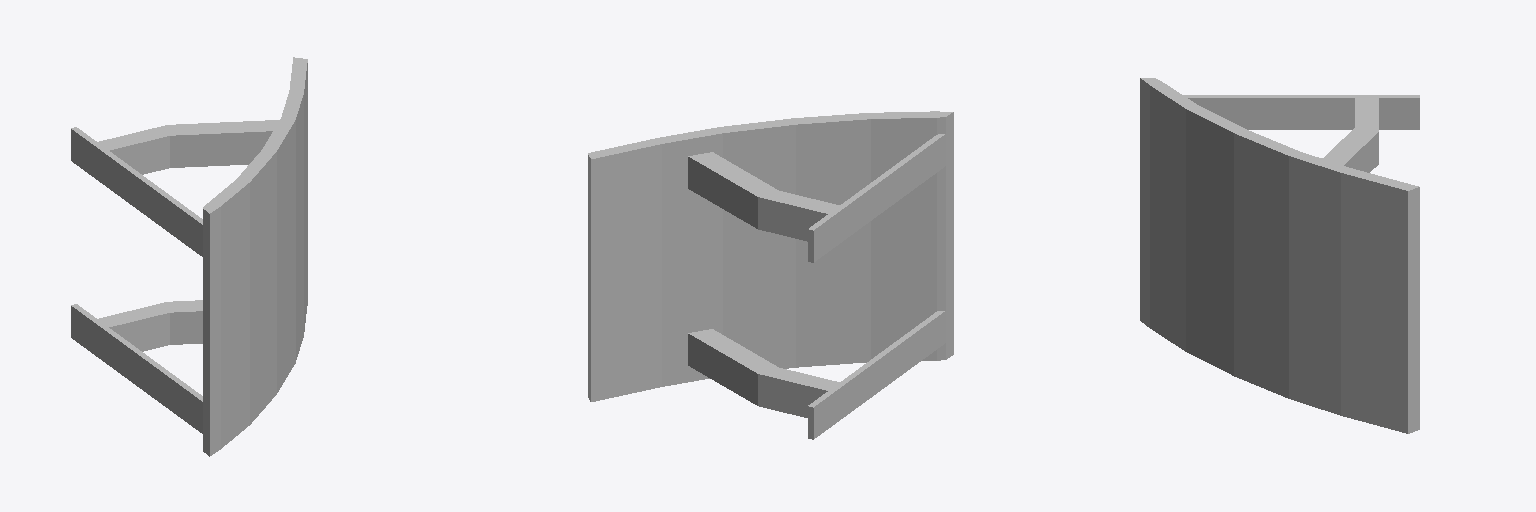
File: awning.obj
The picture shows the model from 3 angles: view 1: azimuth 30°, elevation 25°; view 2: azimuth 150°, elevation 25°; view 3: azimuth 270°, elevation 25°; orthographic projection.
Visible parts, largest first — view 1: Cube; view 2: Cube; view 3: Cube.
Part boxes in pixels (x1,y1,x2,y2): Cube: (71,57,307,456); Cube: (588,111,953,439); Cube: (1140,78,1419,433).
Size of the model in its own units: 2 by 2 by 2.08.